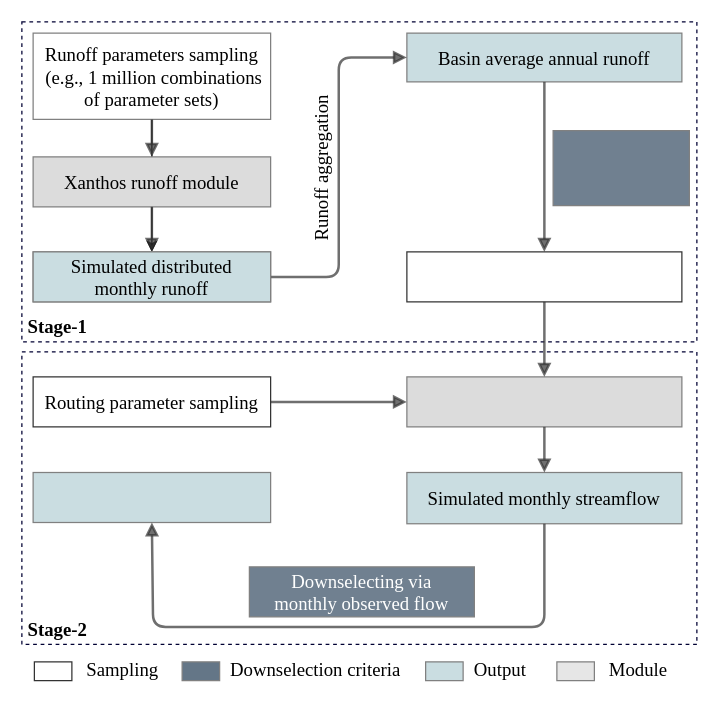
The diagram is 719 pixels wide and 716 high, and some of its shapes have lost their labels. Each missing label, with the centre of its shape:
"Downselecting via observed annual flow" goes at [620,167].
"Final simulated monthly streamflow" goes at [151,496].
"Top 100 sets of runoff parameters" goes at [544,276].
"Xanthos river and water management module" goes at [544,401].
